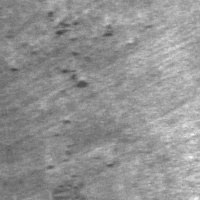rolled-in_scale: (45, 7, 132, 91)
